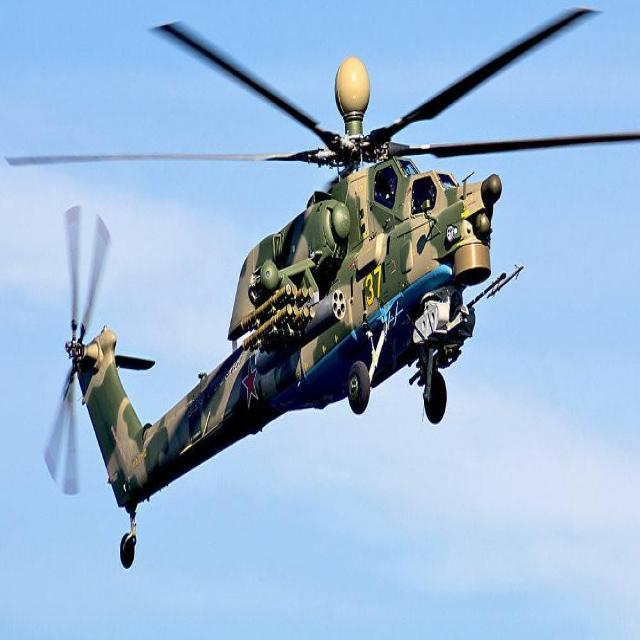MIL_HELO: (13, 14, 640, 564)
